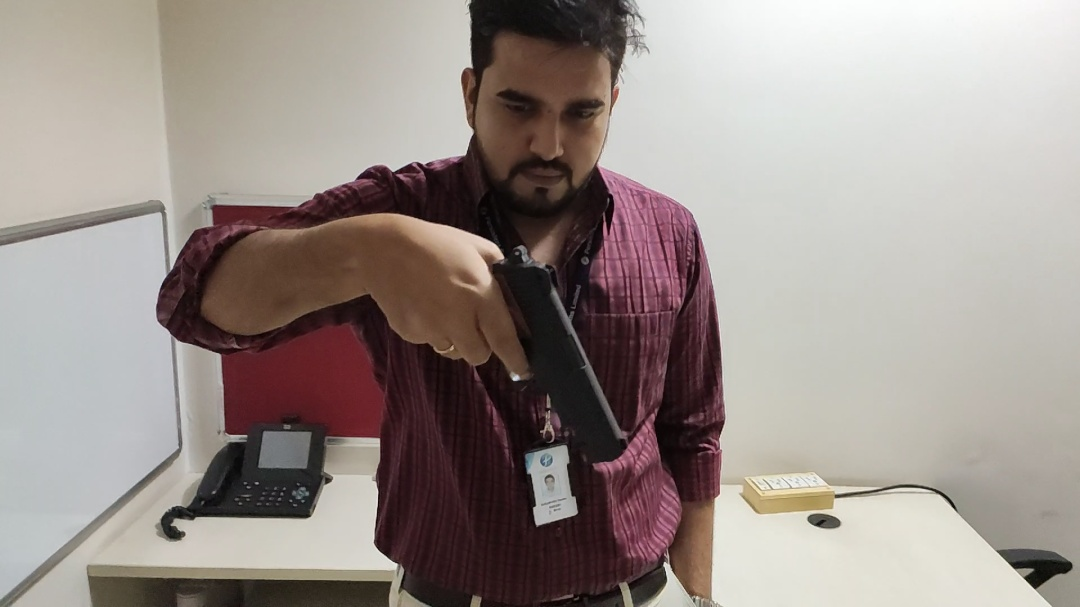gun: (413, 242, 637, 455)
